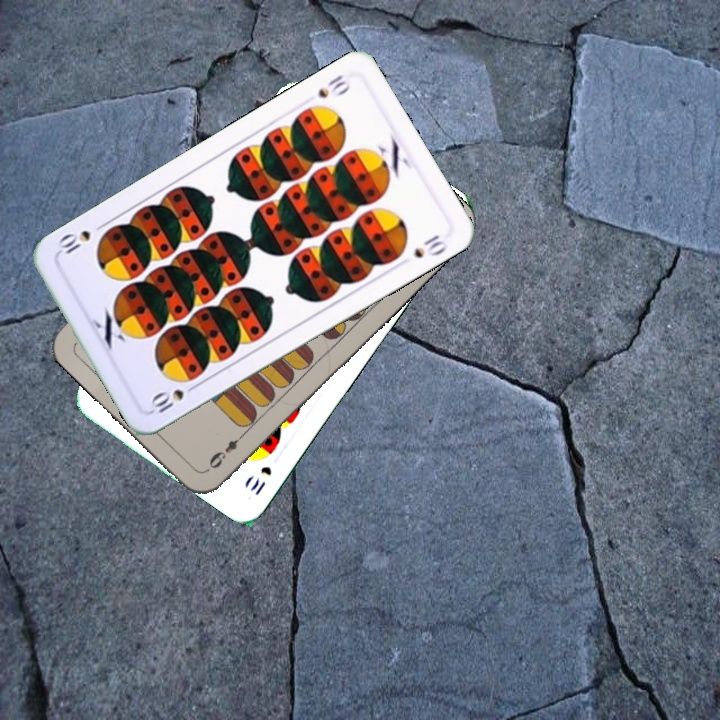E9: (203, 428, 249, 474)
S10: (146, 379, 202, 418), (313, 70, 354, 101), (246, 461, 275, 498)
